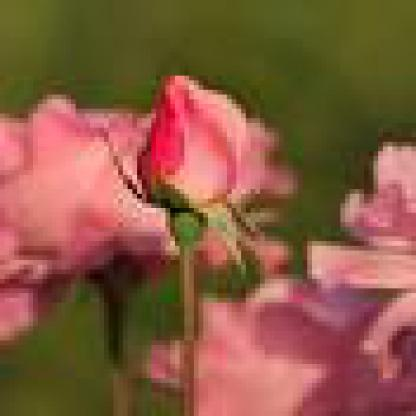Rose-Mawar: (91, 58, 261, 266)
